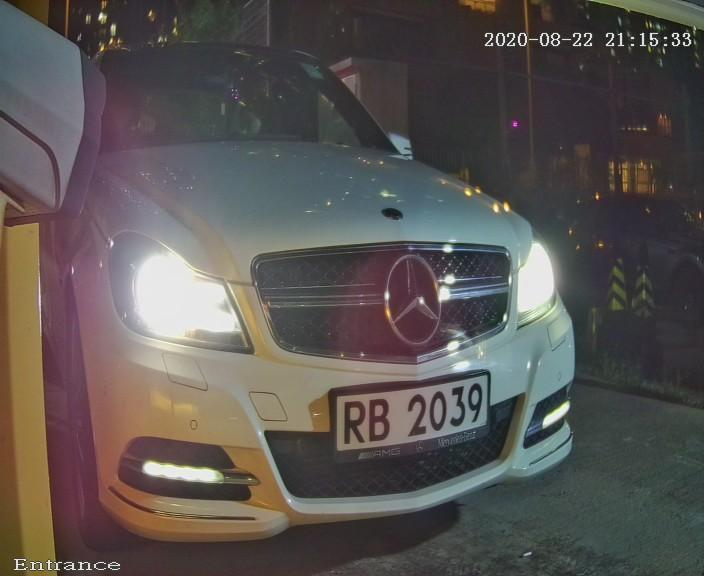License Plate: (305, 349, 505, 492)
